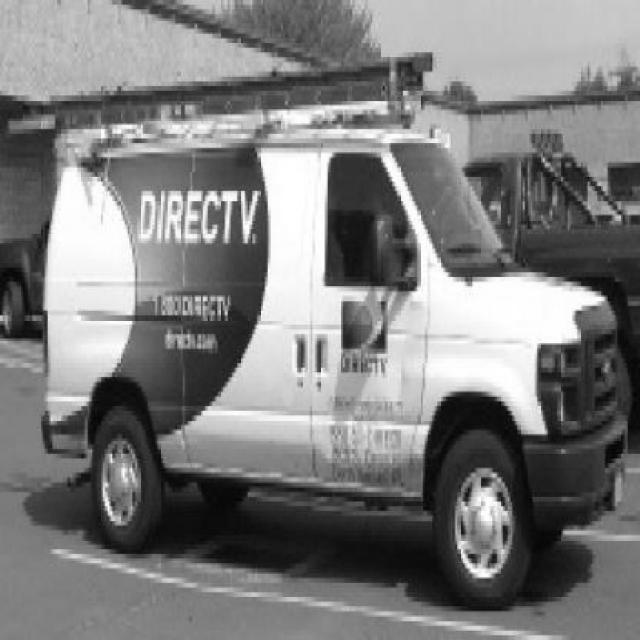Van: (7, 55, 632, 613)
